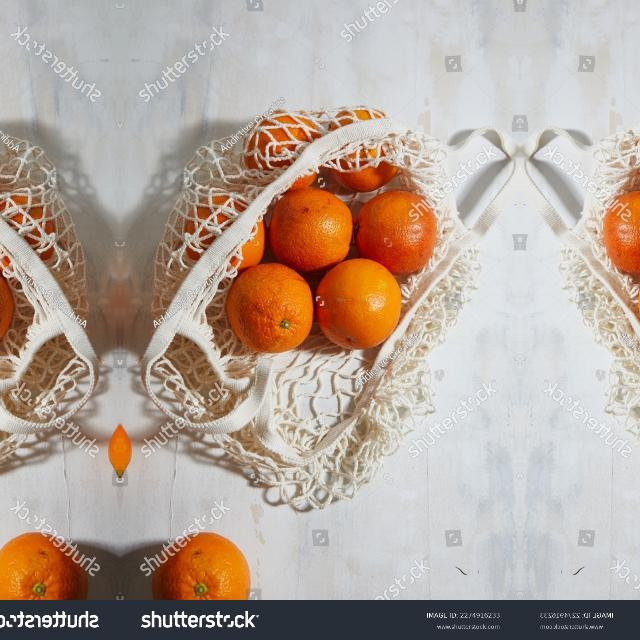Orange: (225, 261, 313, 353), (314, 257, 401, 350), (268, 185, 353, 271), (355, 189, 438, 275), (151, 531, 250, 600), (182, 190, 265, 269), (326, 105, 398, 191), (0, 530, 88, 600), (601, 189, 639, 275)
